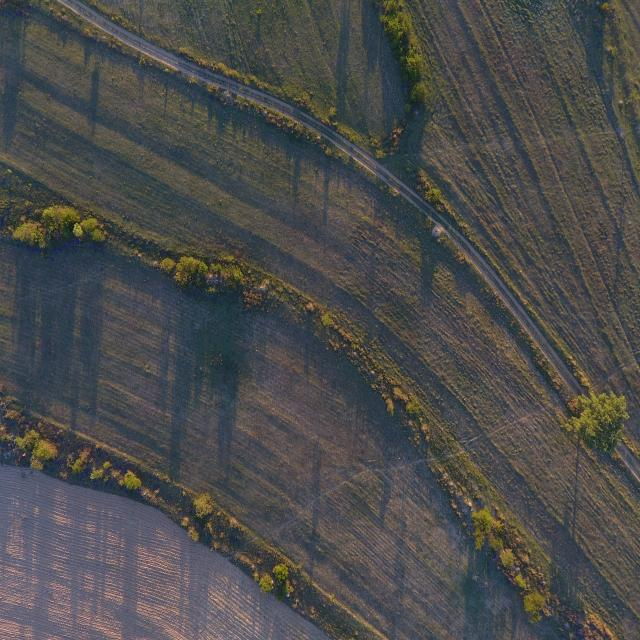boundaries: (14, 161, 594, 631), (123, 20, 606, 461), (10, 389, 363, 635)
